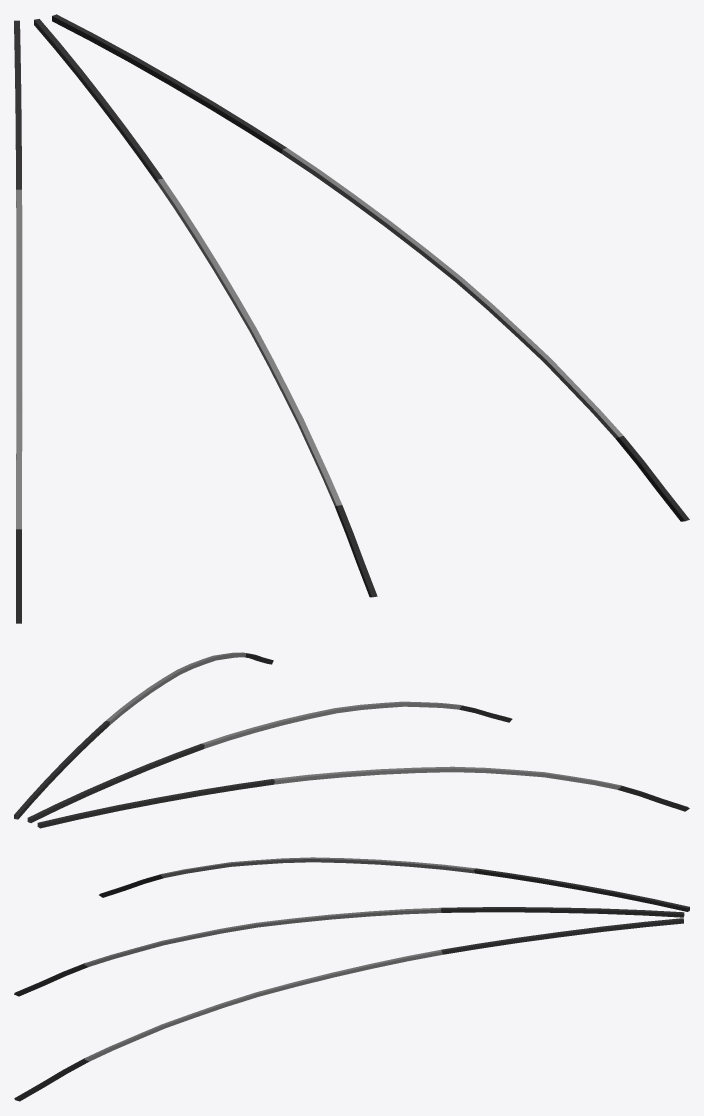
File: MCM_Frame_002.fbx
The picture shows the model from 3 angles, top to bottom: view 1: azimuth 30°, elevation 25°; view 2: azimuth 150°, elevation 25°; view 3: azimuth 270°, elevation 25°; orthographic projection. The views are drawn at different scales.
Parts seen in each view (by area): view 1: MCM_Frame_002; view 2: MCM_Frame_002; view 3: MCM_Frame_002.
Boxes of the visible parts, x1,y1,x2,y2 form: MCM_Frame_002: (14, 14, 689, 623); MCM_Frame_002: (14, 652, 689, 828); MCM_Frame_002: (14, 857, 689, 1101).
Size of the model in its own units: 25.85 by 35.75 by 7.68.
Materials: 2 (1 with a texture image).
